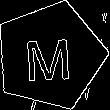M_N: (25, 29, 76, 83)
